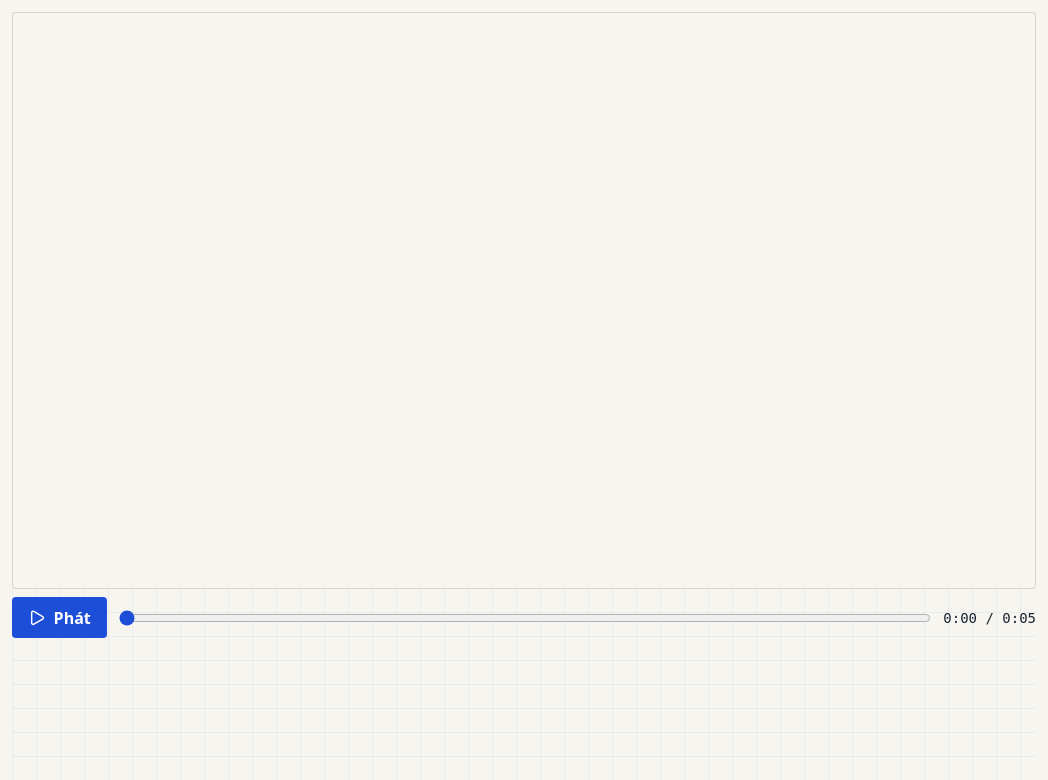
Test: LecturePreview › kéo thanh vị trí: đổi cảnh và đồng hồ
This screenshot has width=1048, height=780.
Expected: the text "0:00 / 0:05" is shown, [943, 608, 1036, 628]
Set the slider named "Vị trí trong video" to "4.5". click: (767, 618)
box: [119, 610, 931, 626]
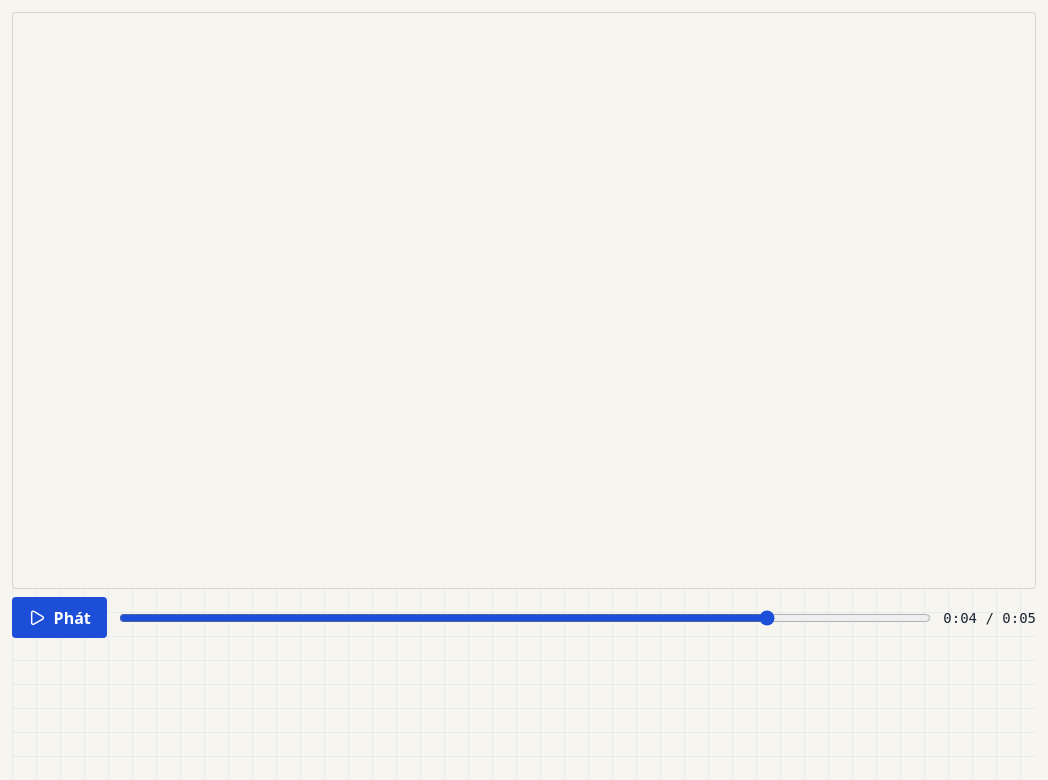
Expected: the text "0:04 / 0:05" is shown, [943, 608, 1036, 628]
